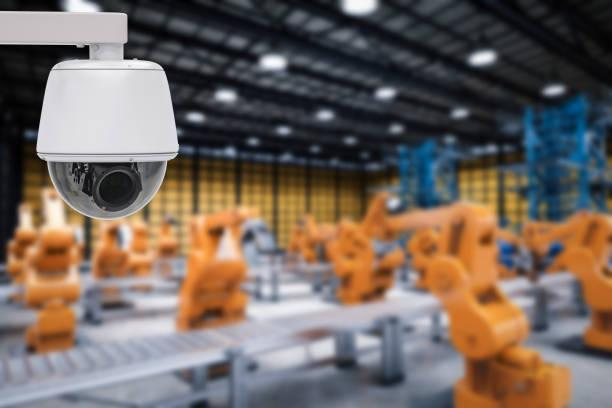camera: (4, 33, 209, 250)
